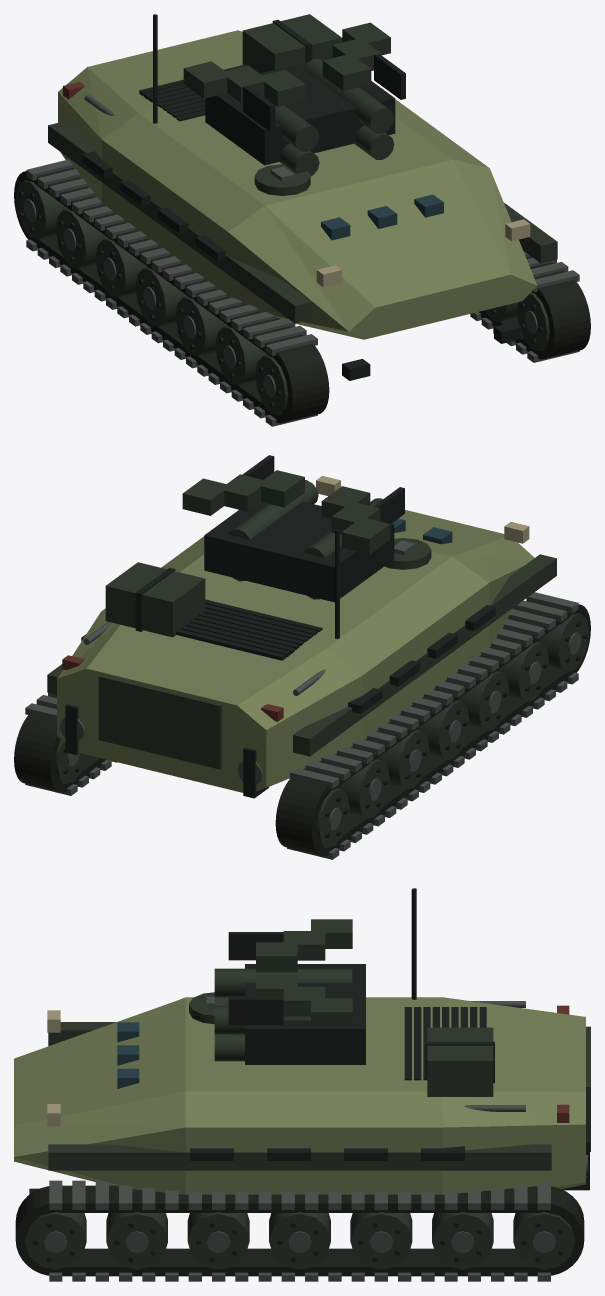
The model's file is tankDestroyer.glb.
The picture shows the model from 3 angles, top to bottom: view 1: azimuth 30°, elevation 25°; view 2: azimuth 150°, elevation 25°; view 3: azimuth 270°, elevation 25°; orthographic projection.
Parts seen in each view (by area): view 1: equipment (×2), armor, glass; view 2: equipment (×2), armor, glass; view 3: equipment (×2), armor, glass.
Boxes of the visible parts, x1,y1,x2,y2 form: equipment (×2): [14, 14, 590, 426]; armor: [58, 30, 537, 339]; glass: [321, 194, 443, 240]; equipment (×2): [14, 455, 590, 859]; armor: [57, 510, 534, 792]; glass: [392, 518, 452, 544]; equipment (×2): [15, 888, 590, 1281]; armor: [14, 997, 585, 1194]; glass: [117, 1022, 139, 1088].
Size of the model in its own units: 3.31 by 2.71 by 5.24.
